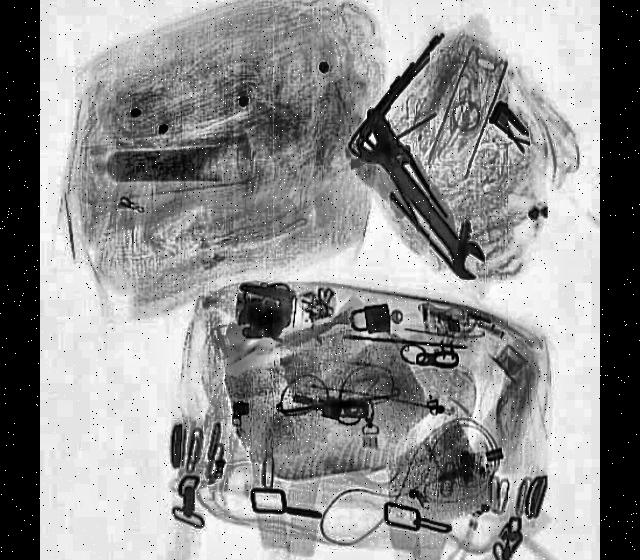Wrench: (350, 117, 490, 290)
